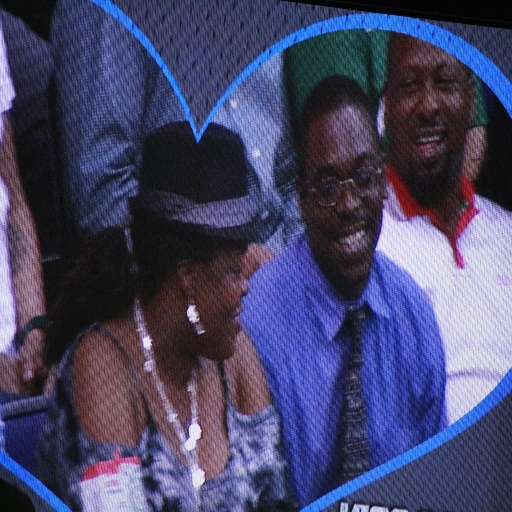hand: (17, 324, 52, 383), (242, 240, 278, 280)
